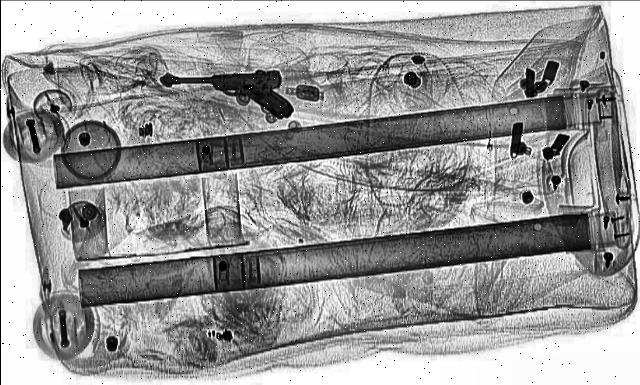Gun: (156, 72, 294, 120)
